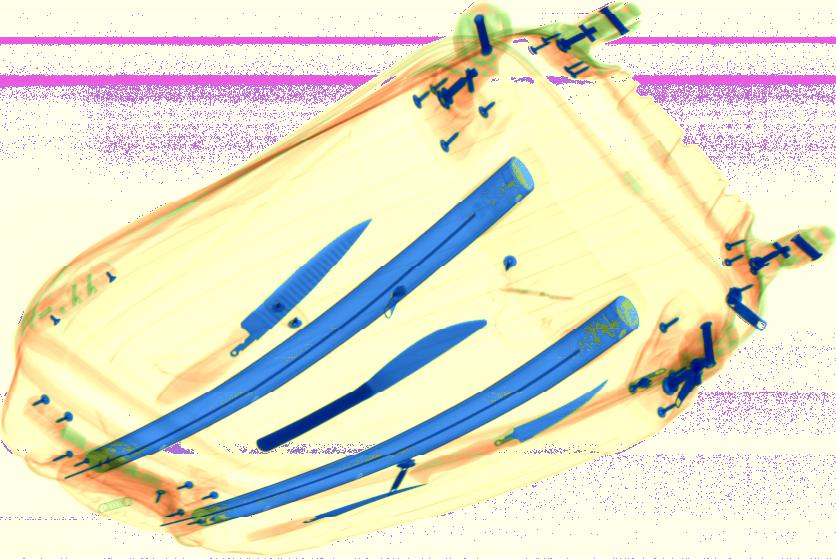Knife: (153, 216, 374, 410), (252, 318, 488, 455), (410, 377, 612, 485), (249, 481, 426, 538)
